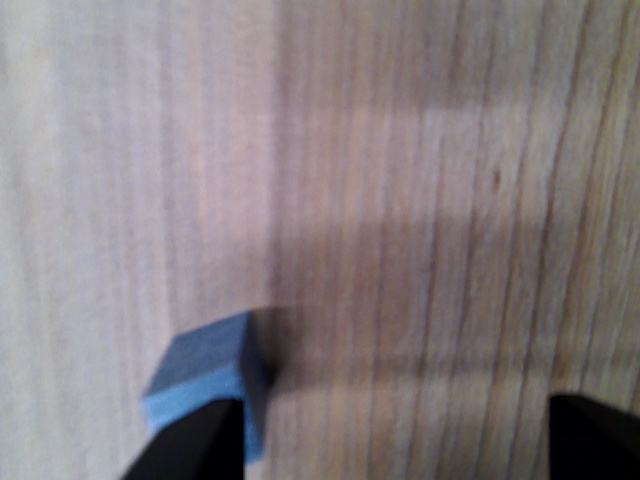stone: (135, 310, 293, 468)
